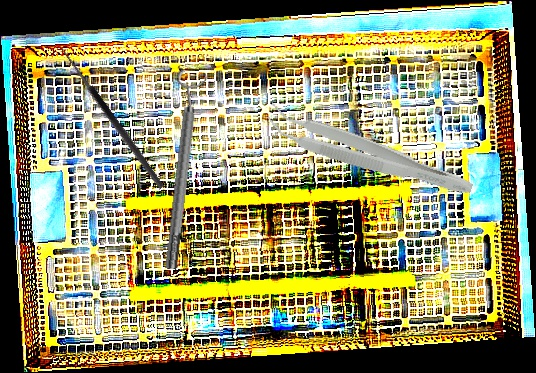Fixation Ring: (153, 69, 210, 271)
Hook Surgical: (49, 44, 167, 195)
Tissue Forceps: (261, 100, 479, 203)
